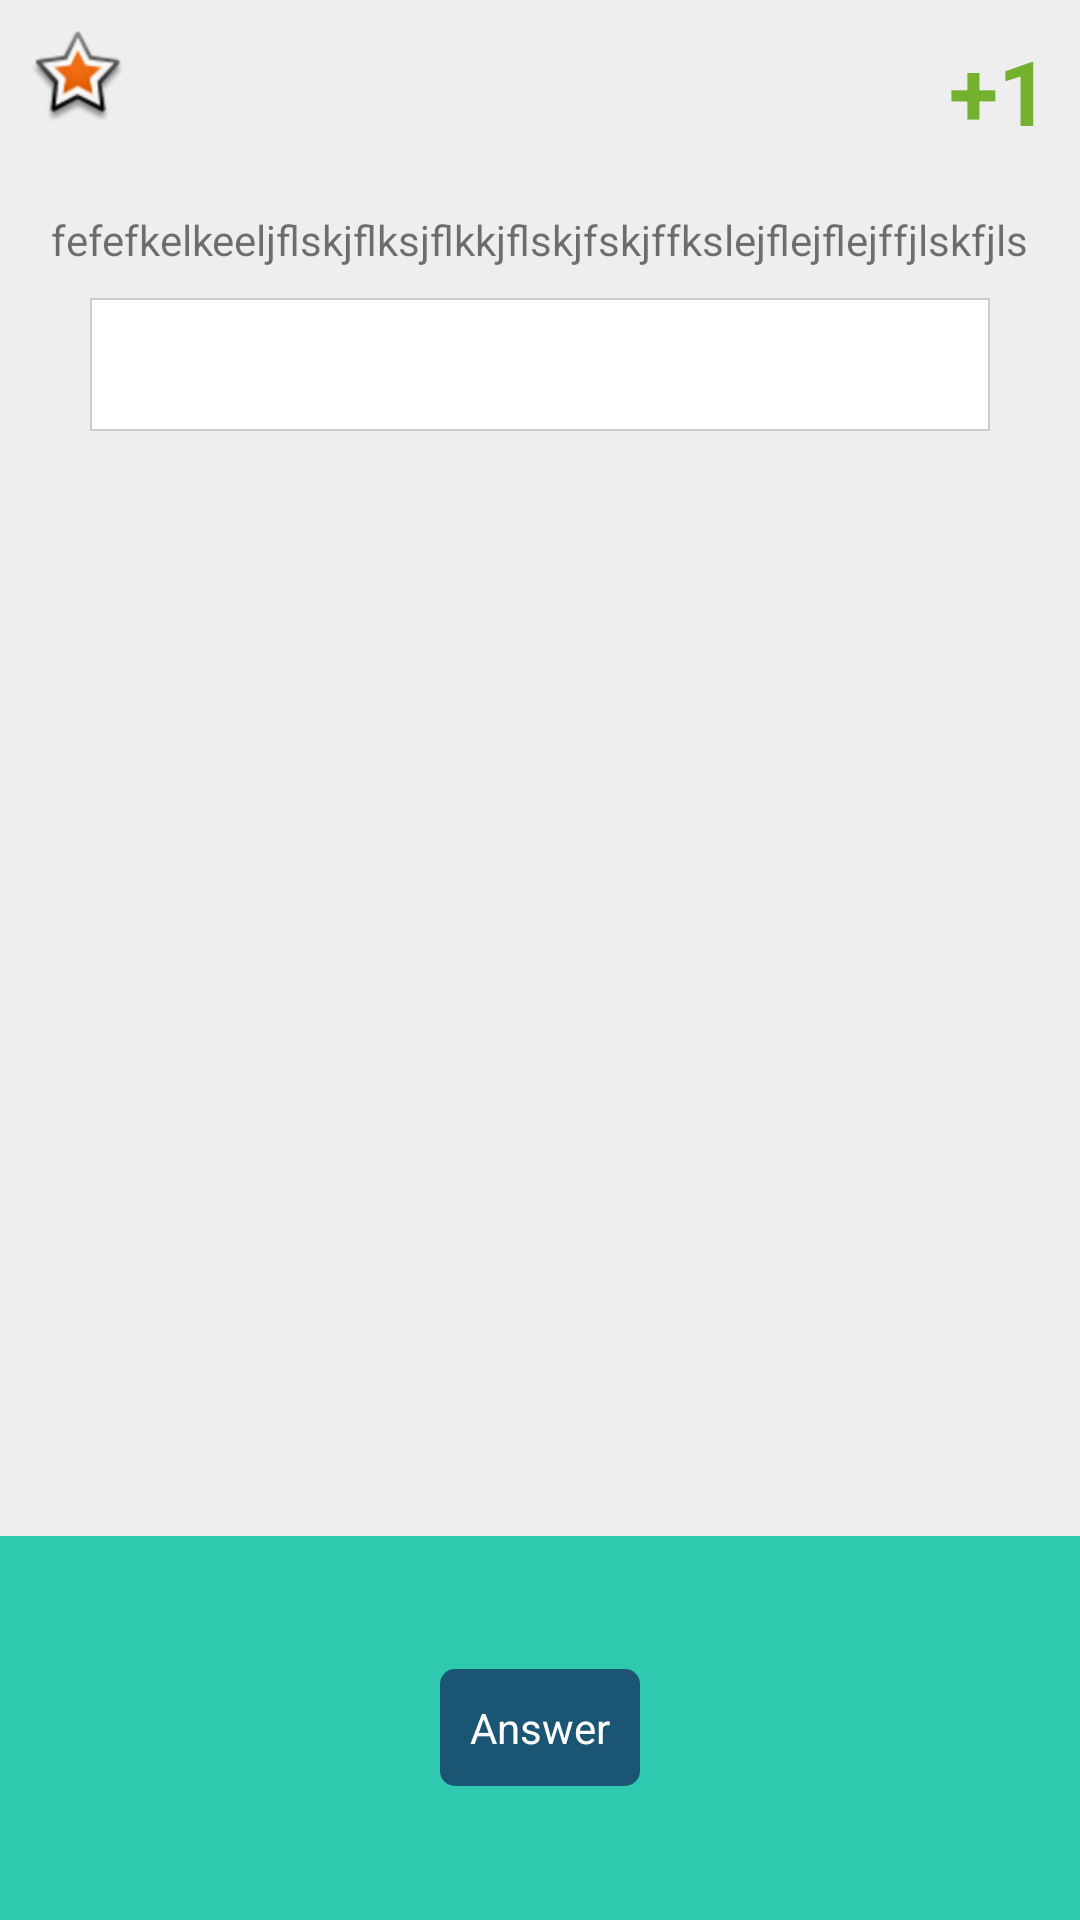

Icons on this 1080×1920 Android screen, each with its box as (left=x1, top=y1, right=x2, bottom=y2):
star on: (left=35, top=31, right=120, bottom=118)
